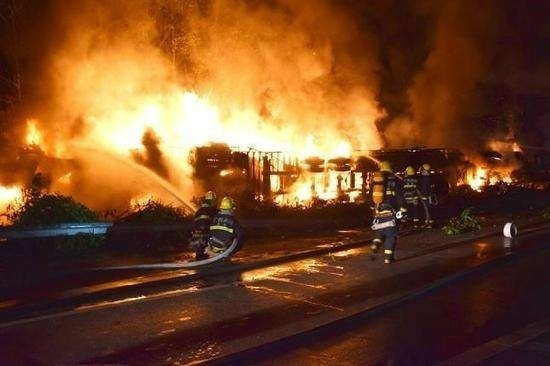fire: (23, 82, 379, 214), (459, 139, 519, 193)
